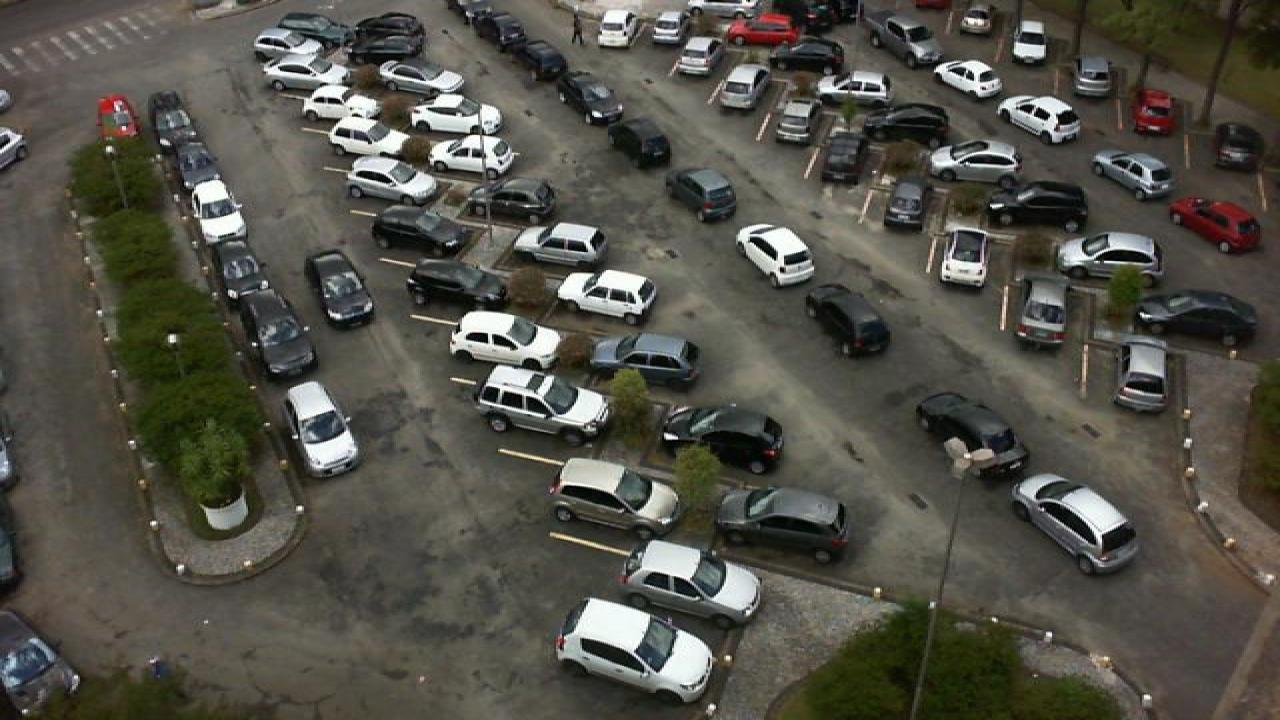Car: (550, 596, 716, 704), (1010, 472, 1140, 575), (616, 539, 764, 629), (472, 364, 614, 446), (548, 456, 684, 538), (916, 390, 1032, 482), (714, 485, 850, 561), (658, 402, 786, 476), (0, 607, 80, 720), (280, 379, 362, 479), (448, 308, 566, 370), (586, 330, 702, 393), (802, 280, 892, 358), (1136, 290, 1258, 344), (248, 287, 318, 377), (1054, 229, 1168, 284), (402, 257, 512, 312), (556, 268, 660, 325), (368, 205, 470, 262), (734, 222, 818, 289), (990, 178, 1092, 232), (1166, 197, 1262, 254), (306, 248, 374, 328), (342, 152, 440, 205), (510, 220, 608, 272), (462, 173, 558, 225), (408, 91, 506, 137), (662, 165, 738, 224), (996, 93, 1082, 145), (926, 138, 1022, 184), (1112, 336, 1168, 414), (864, 12, 942, 68), (426, 133, 518, 179), (1014, 277, 1070, 351), (860, 101, 954, 145), (1090, 150, 1174, 199), (554, 69, 626, 126), (376, 57, 468, 99), (192, 177, 248, 245), (328, 114, 410, 160), (938, 224, 994, 288), (218, 234, 272, 300), (610, 116, 676, 168), (930, 56, 1006, 99), (260, 57, 348, 94), (764, 36, 844, 75), (250, 28, 338, 63), (298, 84, 380, 121), (1210, 119, 1266, 172), (818, 70, 896, 105), (820, 128, 868, 184), (148, 90, 198, 143), (712, 63, 768, 110), (348, 31, 422, 66), (726, 11, 796, 47), (884, 179, 930, 233), (516, 38, 570, 84), (174, 134, 222, 184), (670, 32, 724, 76), (354, 11, 428, 43), (1132, 86, 1178, 136), (280, 12, 354, 43), (96, 92, 142, 141), (772, 98, 818, 144), (486, 14, 534, 56), (1070, 55, 1114, 98), (1008, 18, 1050, 63), (594, 8, 638, 48), (684, 0, 762, 19), (648, 11, 688, 45), (454, 0, 494, 33), (958, 7, 996, 36)
